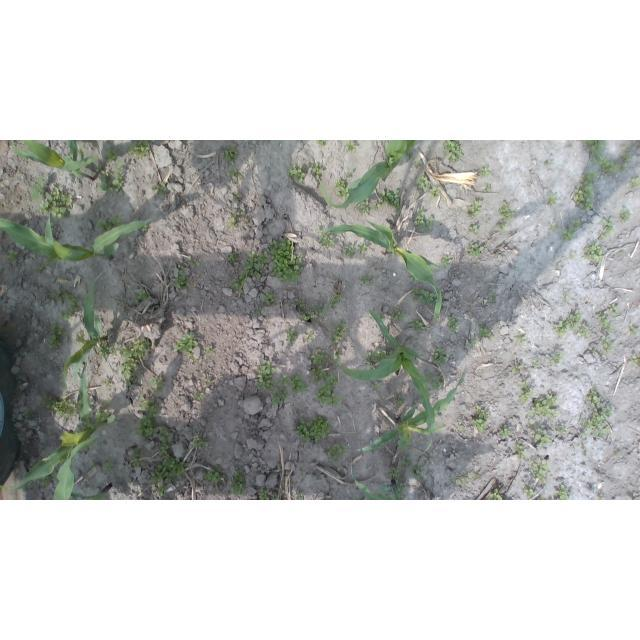Maize: (0, 361, 108, 491), (344, 309, 437, 455), (320, 221, 443, 322), (355, 367, 466, 458), (1, 209, 156, 272), (318, 140, 415, 210), (62, 269, 109, 392), (48, 436, 112, 500), (5, 141, 99, 182), (348, 456, 403, 500)
Weeds: (114, 338, 151, 386), (268, 238, 305, 282), (150, 455, 185, 498), (583, 141, 626, 174), (578, 403, 613, 439), (312, 365, 341, 407), (553, 309, 592, 339), (38, 186, 73, 219), (295, 416, 331, 443), (42, 394, 79, 418), (241, 251, 268, 280), (253, 360, 276, 393), (269, 372, 291, 404), (532, 394, 560, 419), (58, 293, 82, 322), (573, 181, 595, 212), (372, 190, 401, 210), (411, 286, 437, 308), (529, 456, 549, 484), (135, 415, 158, 439), (96, 215, 125, 234), (471, 406, 490, 435), (173, 331, 198, 353), (413, 209, 436, 232), (47, 323, 65, 351), (301, 303, 327, 322), (288, 372, 308, 396), (443, 140, 464, 162), (202, 464, 225, 484), (595, 310, 614, 334), (112, 161, 126, 193), (173, 265, 190, 291), (127, 141, 150, 160), (583, 243, 604, 263), (562, 220, 582, 241), (94, 405, 116, 424), (29, 176, 45, 202), (325, 444, 348, 462), (315, 228, 335, 248), (227, 208, 245, 230), (517, 380, 535, 402), (231, 469, 246, 495), (97, 170, 113, 194), (597, 335, 617, 354), (425, 370, 444, 389), (287, 165, 306, 184), (331, 320, 346, 344), (498, 202, 515, 223), (139, 396, 157, 415), (465, 199, 483, 218), (223, 145, 239, 166), (598, 219, 614, 240), (335, 178, 350, 200), (533, 428, 552, 445), (587, 387, 601, 409), (97, 341, 113, 360), (372, 349, 394, 362), (130, 447, 145, 466), (234, 273, 247, 294), (158, 426, 175, 442), (432, 348, 448, 365), (310, 349, 327, 365), (465, 243, 483, 258), (412, 461, 425, 481), (548, 349, 564, 365), (6, 249, 21, 266), (192, 433, 209, 448), (150, 377, 165, 394), (478, 326, 495, 341), (260, 290, 277, 305), (225, 168, 246, 180), (514, 441, 526, 462), (49, 287, 64, 303), (521, 485, 537, 500), (553, 485, 569, 500), (355, 200, 370, 216), (151, 182, 168, 196), (409, 318, 426, 332), (311, 162, 324, 180), (105, 148, 120, 163), (415, 173, 429, 189), (447, 314, 459, 332), (606, 303, 621, 317), (549, 425, 567, 436), (525, 410, 536, 428), (580, 170, 598, 181), (328, 295, 341, 310), (359, 275, 374, 288), (498, 425, 511, 439), (428, 185, 441, 199), (330, 351, 342, 366), (620, 207, 631, 223), (102, 459, 115, 472), (627, 322, 640, 335), (343, 245, 355, 259), (391, 310, 405, 322), (285, 327, 297, 341), (202, 373, 213, 388), (459, 473, 474, 484), (441, 255, 452, 270), (490, 488, 503, 500), (514, 332, 527, 344), (357, 242, 369, 255), (479, 164, 490, 178), (425, 261, 439, 272), (619, 151, 631, 163), (344, 140, 356, 152), (303, 330, 315, 342), (228, 250, 239, 263), (295, 299, 306, 312), (75, 329, 85, 343), (159, 442, 169, 456), (137, 291, 151, 301), (187, 256, 201, 266), (395, 396, 406, 408), (629, 176, 640, 188), (259, 489, 271, 500), (388, 467, 400, 478), (21, 408, 35, 417), (102, 378, 113, 389), (511, 363, 522, 374), (547, 194, 558, 205), (231, 190, 241, 202), (630, 354, 640, 366), (41, 476, 51, 487), (455, 421, 465, 432), (402, 456, 411, 468), (497, 219, 506, 231), (190, 354, 203, 362), (469, 225, 479, 235), (254, 308, 263, 319), (397, 481, 406, 492), (136, 223, 148, 231), (532, 356, 540, 368), (195, 392, 205, 401), (488, 292, 497, 302), (549, 222, 558, 232), (33, 264, 44, 272), (563, 292, 571, 303), (367, 362, 378, 370), (295, 491, 304, 500), (205, 345, 213, 355), (375, 311, 385, 319), (468, 340, 477, 348), (568, 252, 577, 260), (581, 446, 587, 457), (372, 381, 380, 389), (543, 159, 553, 165), (588, 347, 596, 354), (626, 496, 640, 500), (475, 471, 482, 479), (299, 470, 307, 477), (415, 160, 422, 168), (405, 151, 413, 158), (484, 184, 491, 192), (449, 476, 455, 485), (598, 494, 607, 500), (90, 463, 97, 470), (347, 171, 354, 178), (365, 352, 372, 359), (314, 140, 326, 144), (614, 452, 623, 457), (132, 299, 138, 306), (104, 398, 111, 404), (625, 142, 631, 148), (272, 495, 279, 500), (412, 275, 417, 281), (537, 496, 544, 500), (277, 463, 281, 470), (244, 219, 249, 224), (382, 418, 388, 422), (228, 276, 233, 280), (638, 147, 640, 151)
